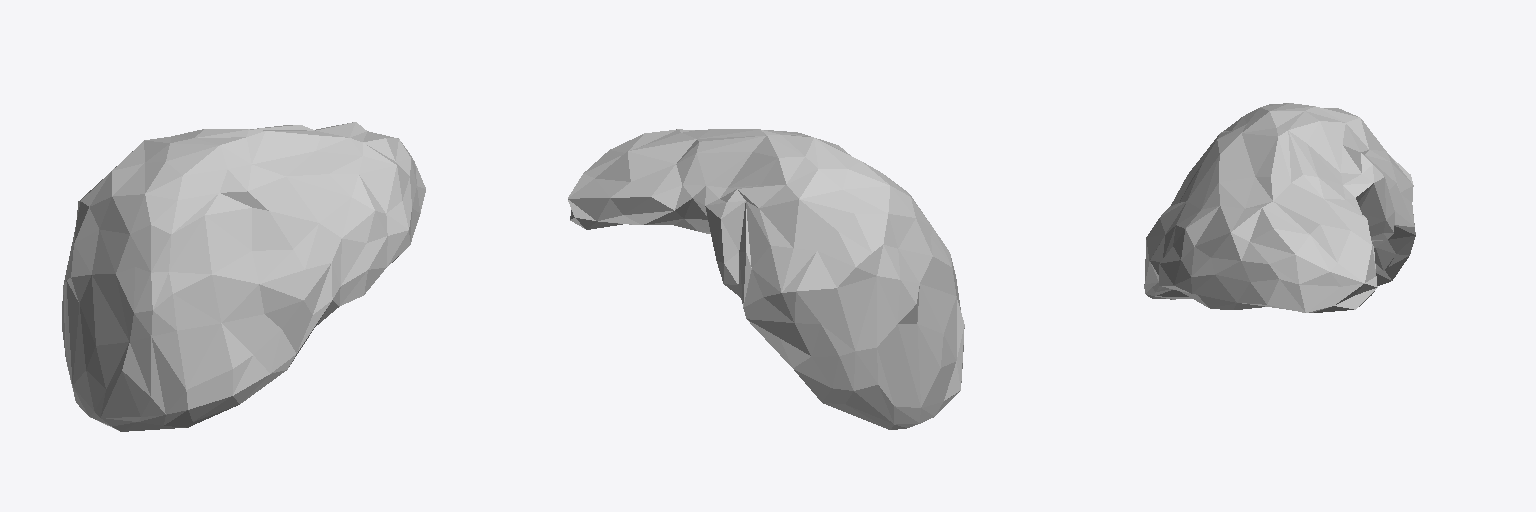
Rendered from meca_foie_end_rec.obj.
3 renders of one model, left to right at view 1: azimuth 30°, elevation 25°; view 2: azimuth 150°, elevation 25°; view 3: azimuth 270°, elevation 25°, orthographic.
Bounding box in the file's own units: 6.79 × 4.65 × 4.59.